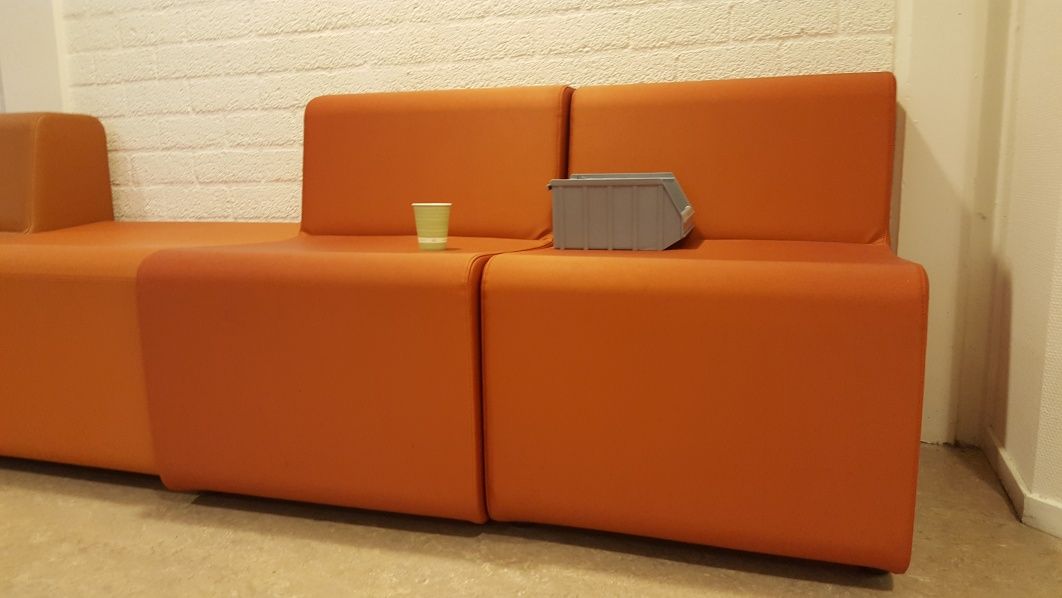cup: (408, 199, 456, 251)
tray: (546, 169, 698, 257)
